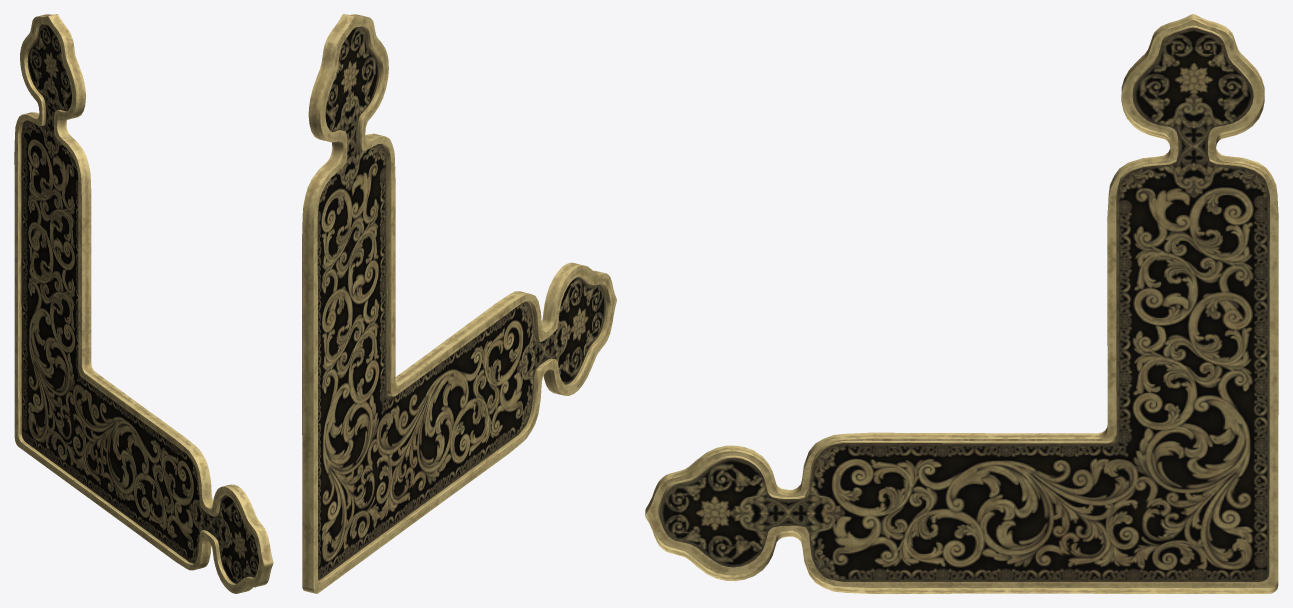
Rendered from SM_MetalPanel_05.fbx.
3 renders of one model, left to right at view 1: azimuth 30°, elevation 25°; view 2: azimuth 150°, elevation 25°; view 3: azimuth 270°, elevation 25°, orthographic. The views are drawn at different scales.
Visible parts, largest first — view 1: SM_MetalPanel_05_LOD0; view 2: SM_MetalPanel_05_LOD0; view 3: SM_MetalPanel_05_LOD0.
Boxes of the visible parts, <box> form: SM_MetalPanel_05_LOD0: <box>14,14,273,593</box>; SM_MetalPanel_05_LOD0: <box>302,14,616,593</box>; SM_MetalPanel_05_LOD0: <box>645,14,1278,593</box>.
Bounding box in the file's own units: 1.85 × 84.49 × 84.48.
